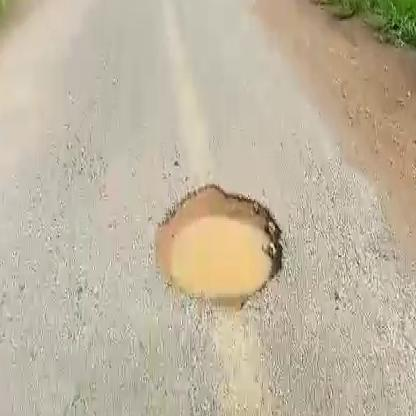pothole: (154, 185, 285, 303)
